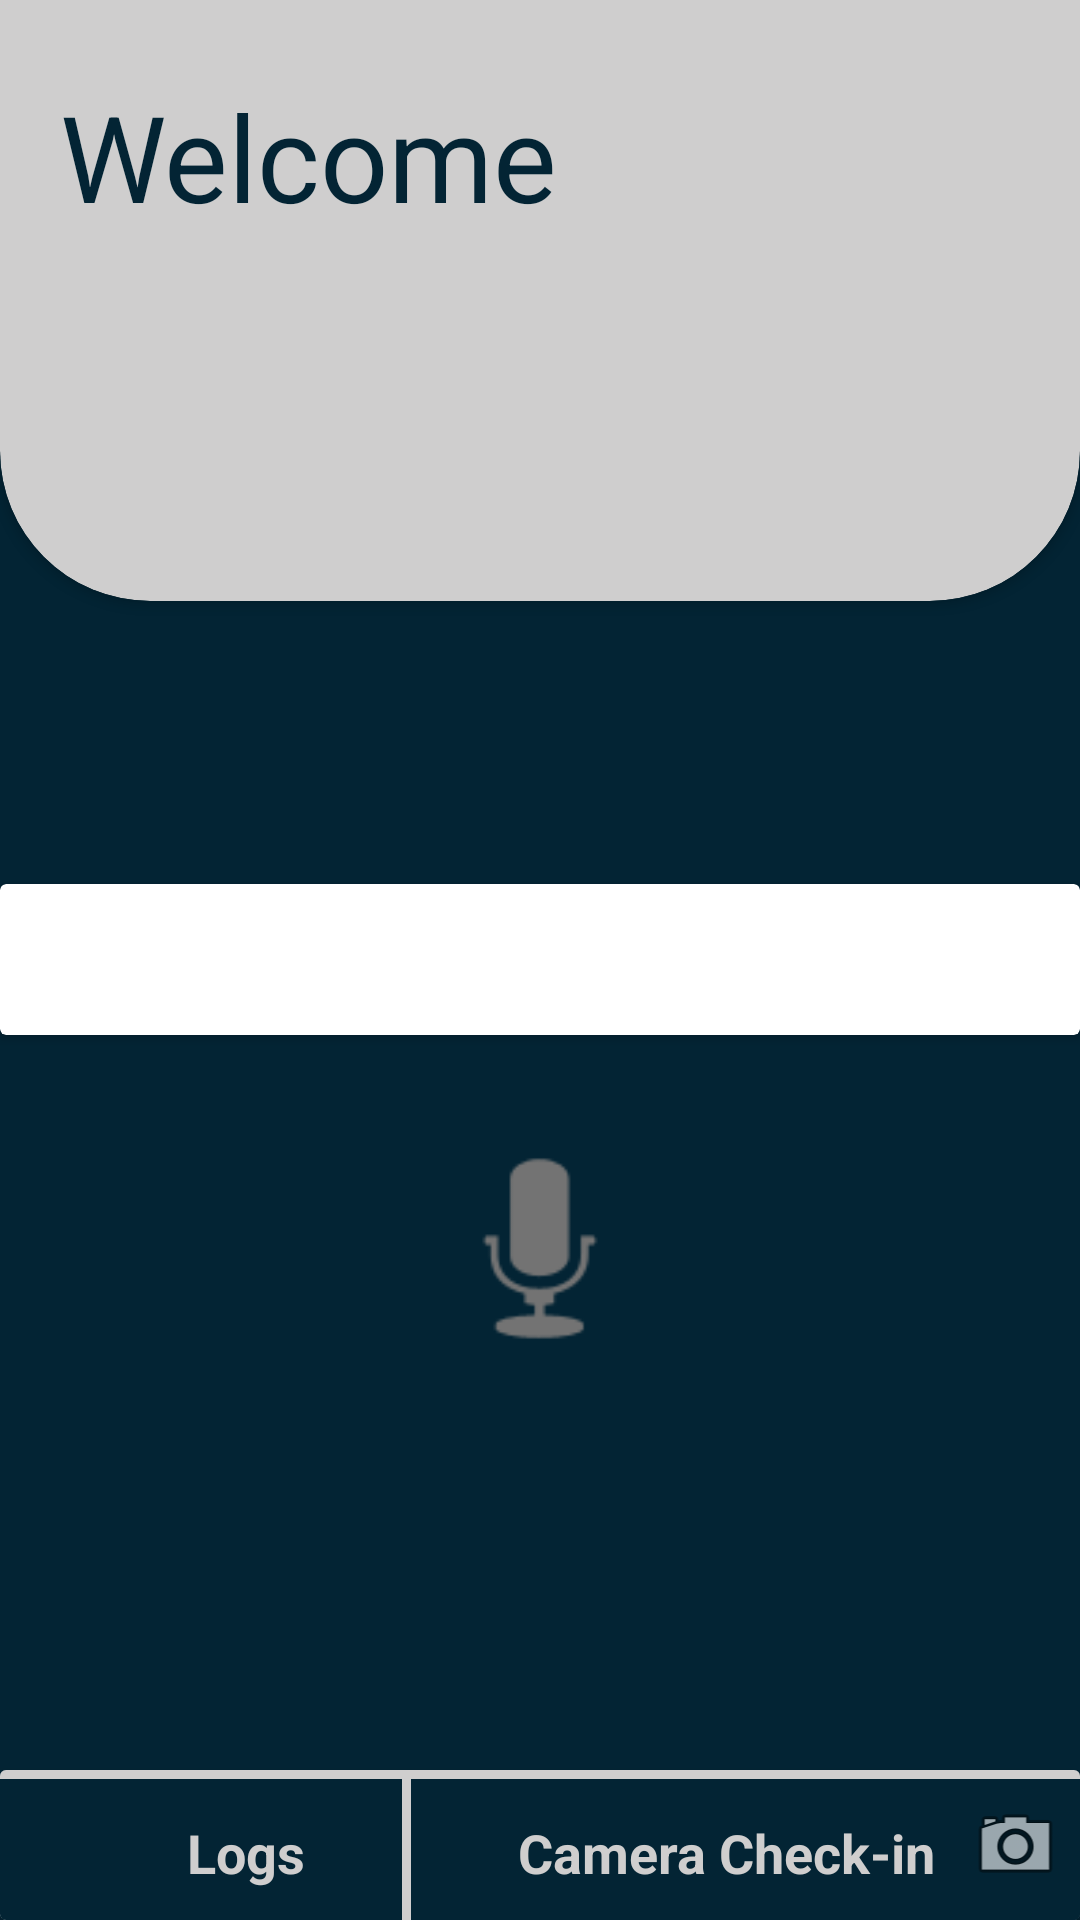

Icon click points for this 1080*1920 phone screenshot, format (x,y):
speak now: (540,1248)
